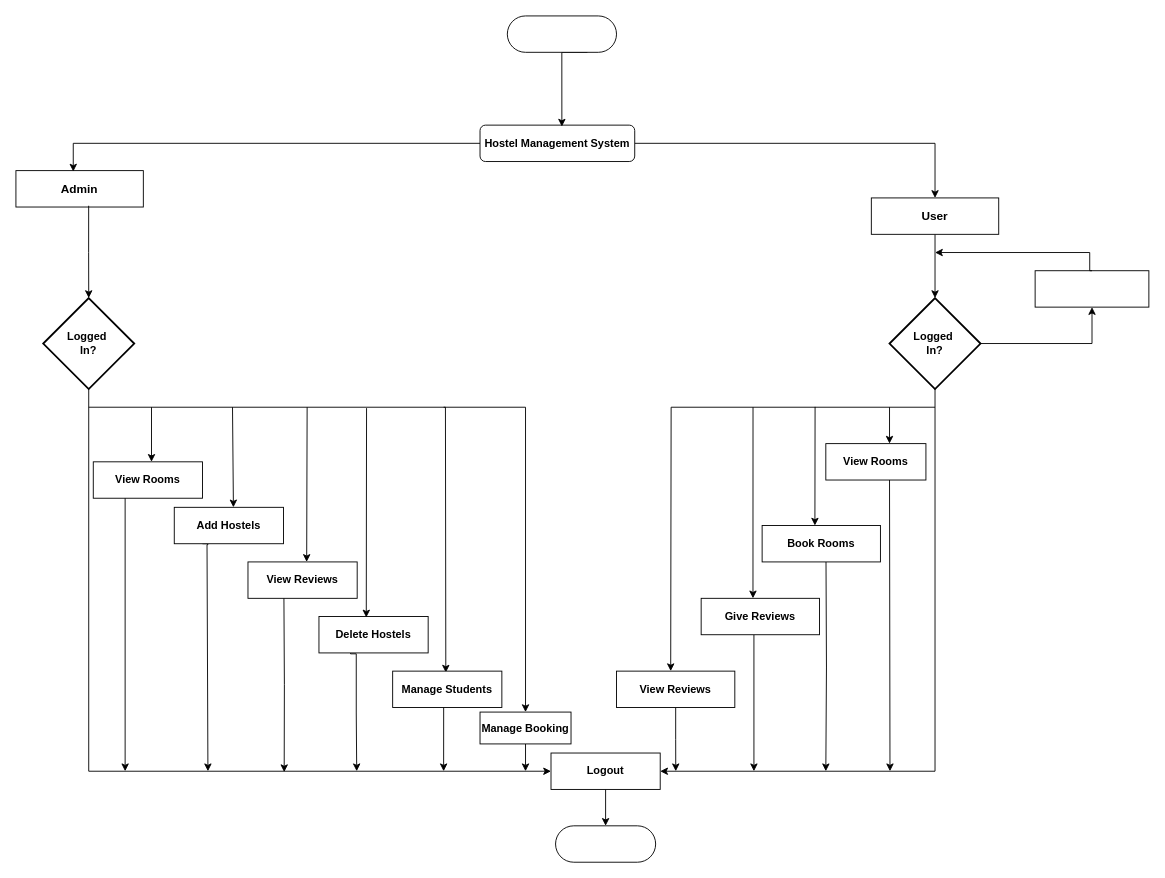
Some shapes in this 1165 by 878 pixel diagram are drawn without their labels. The centre of each missing label's shape, as x and y in pixels:
"End" belongs at (605,843).
"Register" belongs at (1091,288).
"Start" belongs at (561,33).
